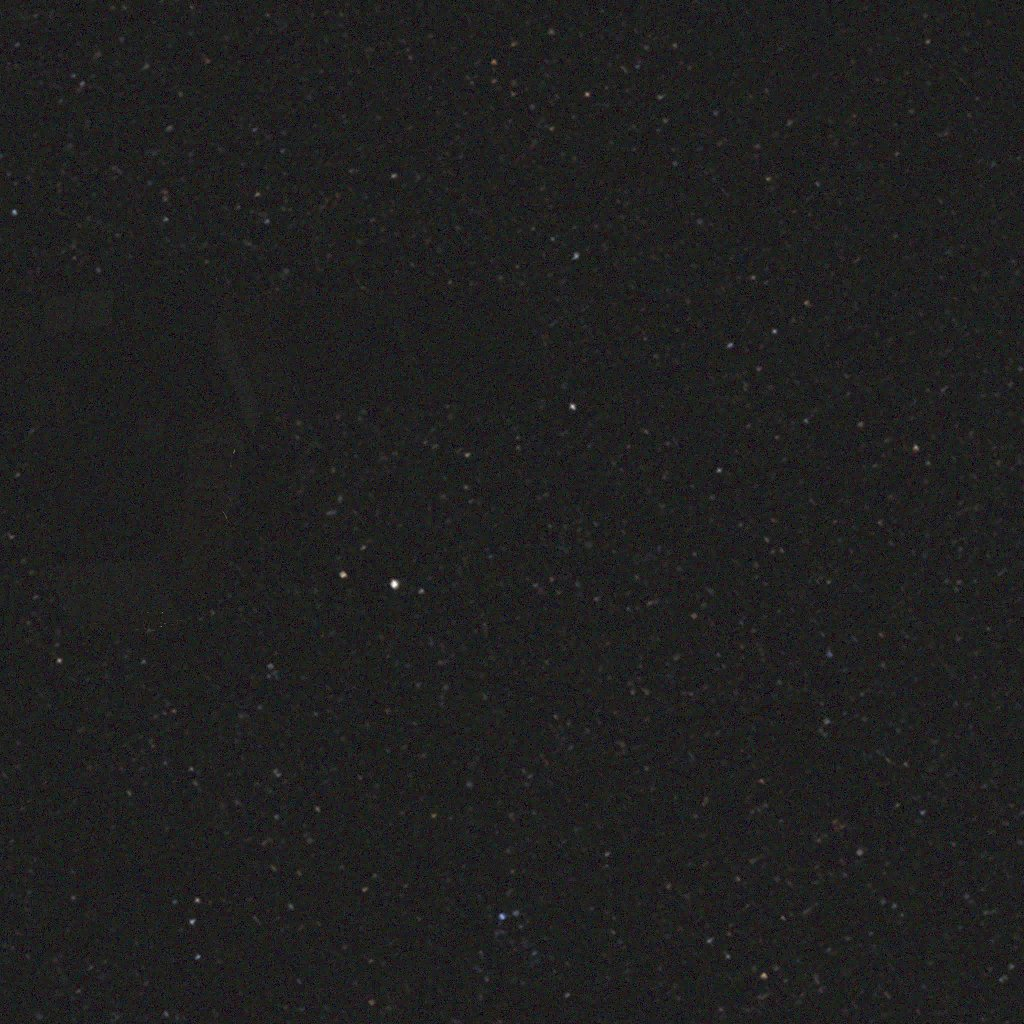soho: (0, 270, 556, 633)
